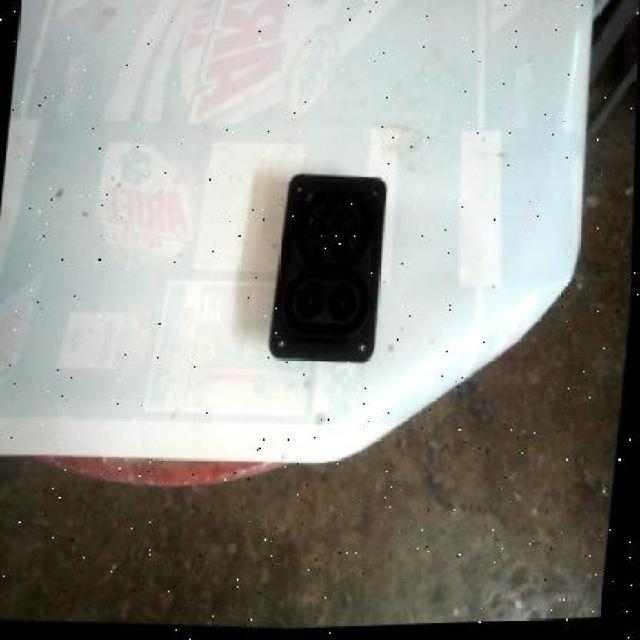CCS2: (270, 171, 390, 362)
